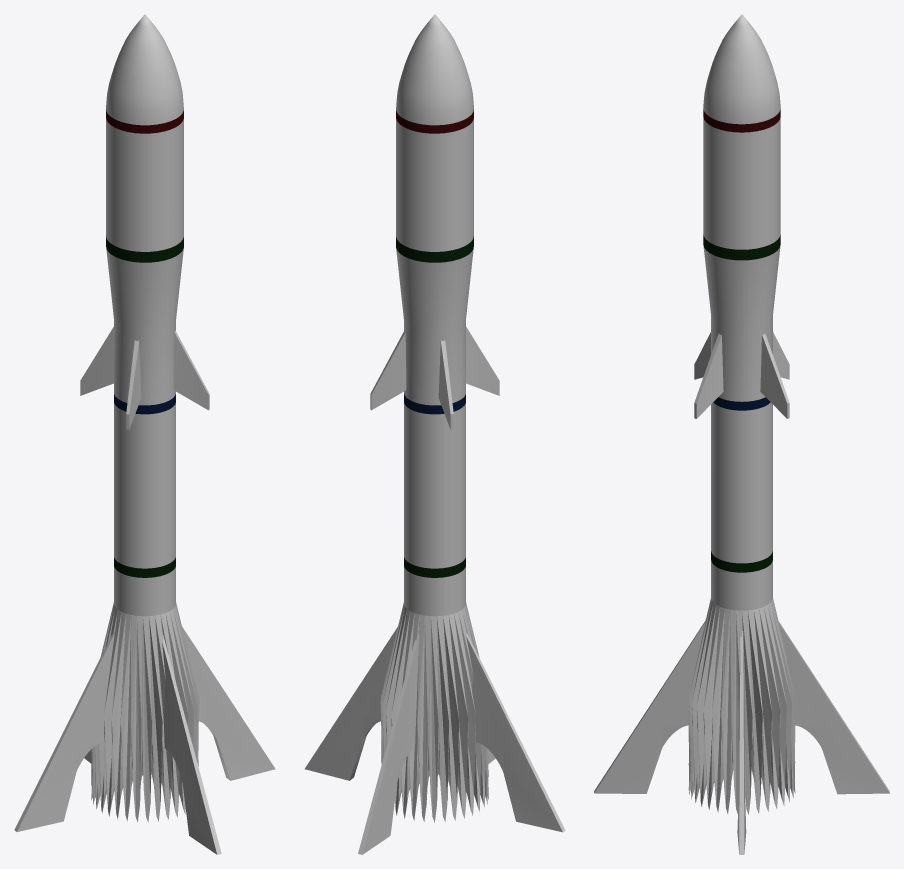
The model's file is Missile Rocket.obj.
3 renders of one model, left to right at view 1: azimuth 30°, elevation 25°; view 2: azimuth 150°, elevation 25°; view 3: azimuth 270°, elevation 25°, orthographic.
Visible parts, largest first — view 1: Cylinder.002_Material.001, Cylinder_Material.001, Plane.003_Material.001, Plane.001_Material.001, Cylinder.003_Material.003, Cylinder.004_Material.002, Cylinder.006_Material.003, Cylinder.005_Material.004; view 2: Cylinder.002_Material.001, Cylinder_Material.001, Plane.003_Material.001, Plane.001_Material.001, Cylinder.003_Material.003, Cylinder.004_Material.002, Cylinder.006_Material.003, Cylinder.005_Material.004; view 3: Cylinder.002_Material.001, Cylinder_Material.001, Plane.003_Material.001, Plane.001_Material.001, Cylinder.003_Material.003, Cylinder.004_Material.002, Cylinder.006_Material.003.
Part boxes in pixels (box(x1,y1,x2,y2)): Cylinder.002_Material.001: box(106, 14, 183, 616); Cylinder_Material.001: box(91, 602, 199, 822); Plane.003_Material.001: box(14, 626, 275, 854); Plane.001_Material.001: box(80, 326, 209, 429); Cylinder.003_Material.003: box(106, 236, 183, 262); Cylinder.004_Material.002: box(106, 109, 183, 133); Cylinder.006_Material.003: box(114, 557, 175, 577); Cylinder.005_Material.004: box(114, 394, 175, 414); Cylinder.002_Material.001: box(396, 14, 473, 616); Cylinder_Material.001: box(380, 602, 488, 822); Plane.003_Material.001: box(304, 627, 565, 854); Plane.001_Material.001: box(370, 327, 499, 429); Cylinder.003_Material.003: box(396, 236, 473, 262); Cylinder.004_Material.002: box(396, 109, 473, 133); Cylinder.006_Material.003: box(404, 557, 465, 577); Cylinder.005_Material.004: box(404, 394, 465, 414); Cylinder.002_Material.001: box(703, 14, 780, 610); Cylinder_Material.001: box(688, 598, 795, 814); Plane.003_Material.001: box(594, 620, 889, 854); Plane.001_Material.001: box(694, 332, 789, 418); Cylinder.003_Material.003: box(703, 234, 780, 260); Cylinder.004_Material.002: box(703, 109, 780, 132); Cylinder.006_Material.003: box(711, 551, 772, 572).
Bounding box in the file's own units: 6.68 × 19.41 × 6.68.
